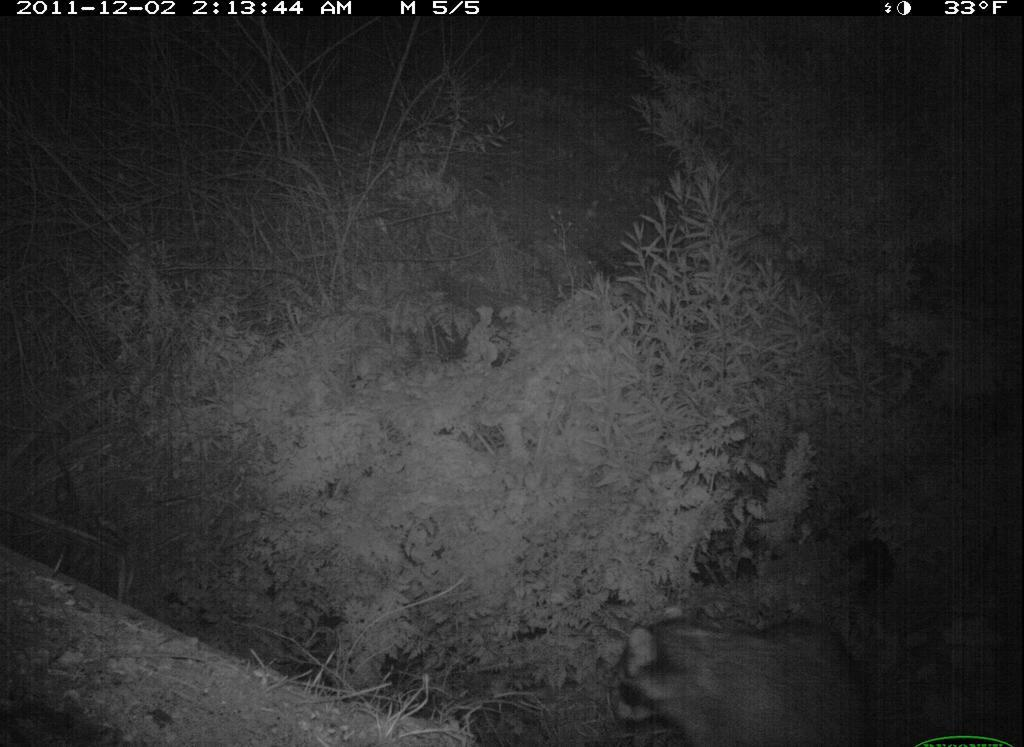raccoon: (601, 600, 890, 747)
